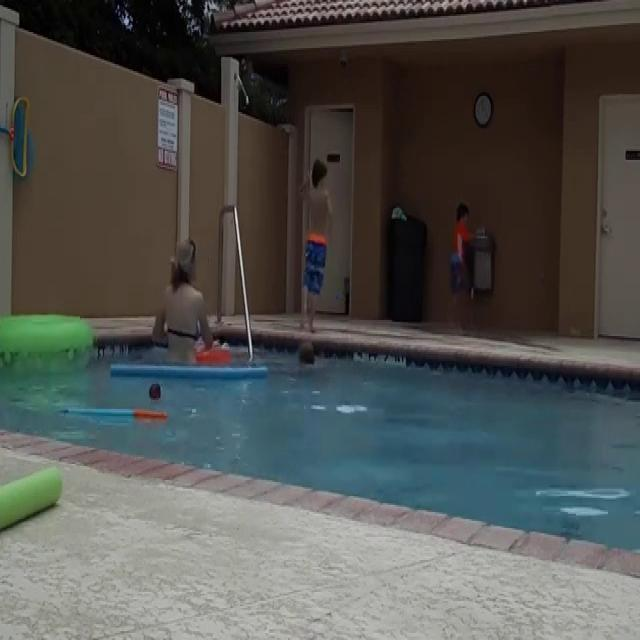adult: (153, 239, 213, 386)
child: (303, 159, 332, 340), (451, 202, 466, 336), (293, 344, 323, 390)
